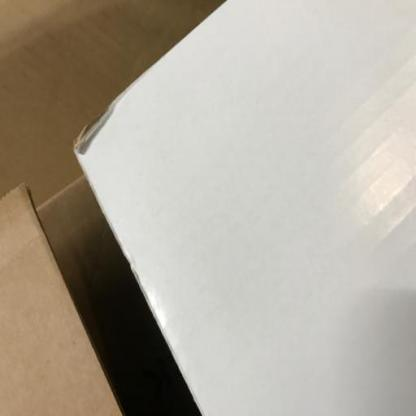CARDBOARD: (0, 0, 415, 415), (71, 5, 415, 415), (0, 182, 122, 415)
